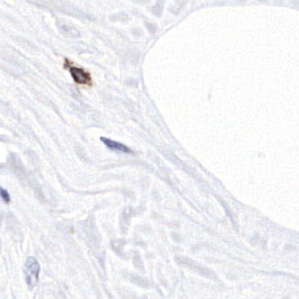Lymphocyte: (62, 58, 94, 87)
